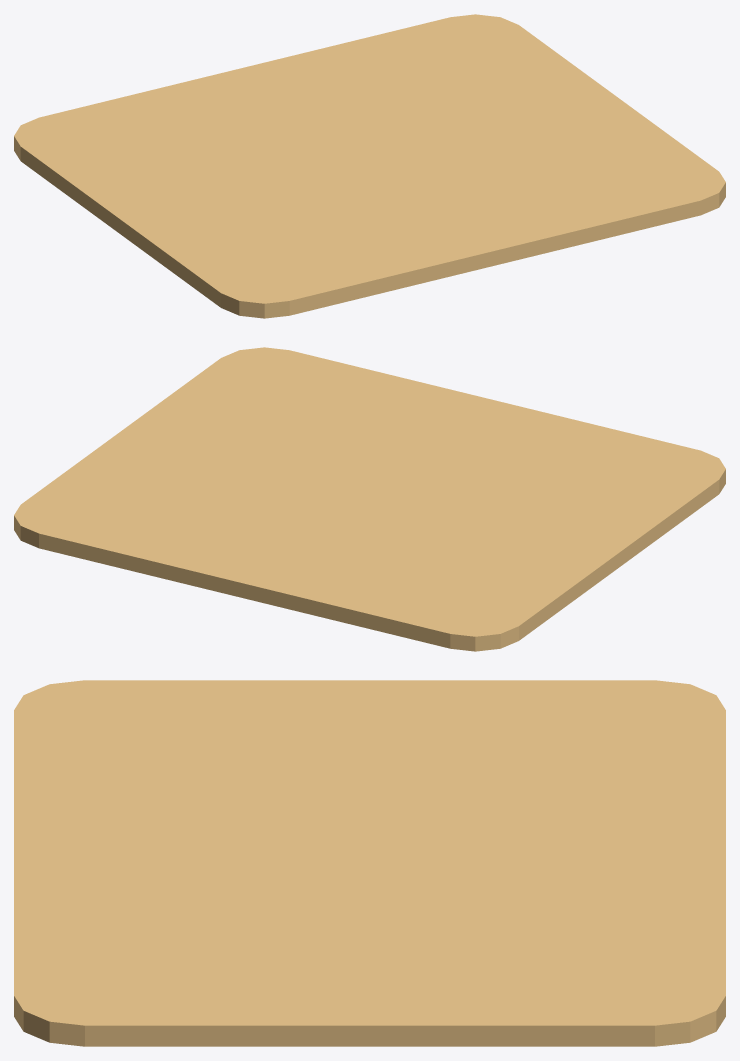
Rendered from Tapete Rato.FBX.
3 views of the same model, one above another, from view 1: azimuth 30°, elevation 25°; view 2: azimuth 150°, elevation 25°; view 3: azimuth 270°, elevation 25° (orthographic). The views are drawn at different scales.
Visible parts, largest first — view 1: ChamferBox004; view 2: ChamferBox004; view 3: ChamferBox004.
Boxes of the visible parts, x1,y1,x2,y2 form: ChamferBox004: [14, 14, 725, 318]; ChamferBox004: [14, 347, 725, 651]; ChamferBox004: [14, 680, 725, 1046].
Size of the model in its own units: 127 by 3.6 by 110.
